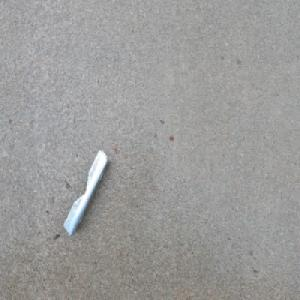ClampPart: (63, 149, 109, 237)
